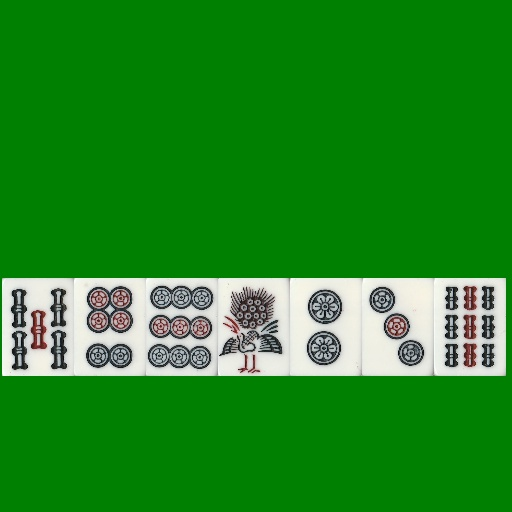1s: (218, 278, 290, 376)
2p: (290, 278, 362, 376)
3p: (362, 278, 434, 376)
5s: (2, 278, 74, 376)
6p: (74, 278, 146, 376)
9p: (146, 278, 218, 376)
9s: (434, 278, 506, 376)
